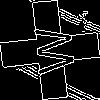W: (25, 25, 76, 77)
